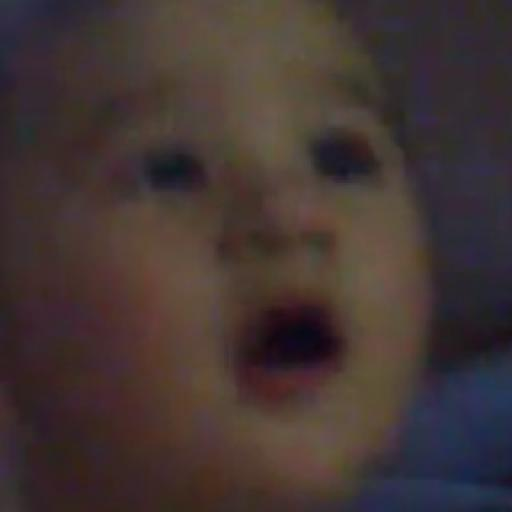Autism: (18, 0, 462, 512)
